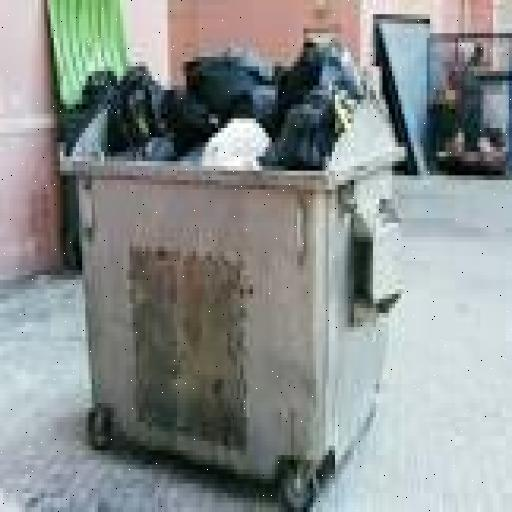poubelle_pleine: (52, 40, 426, 509)
